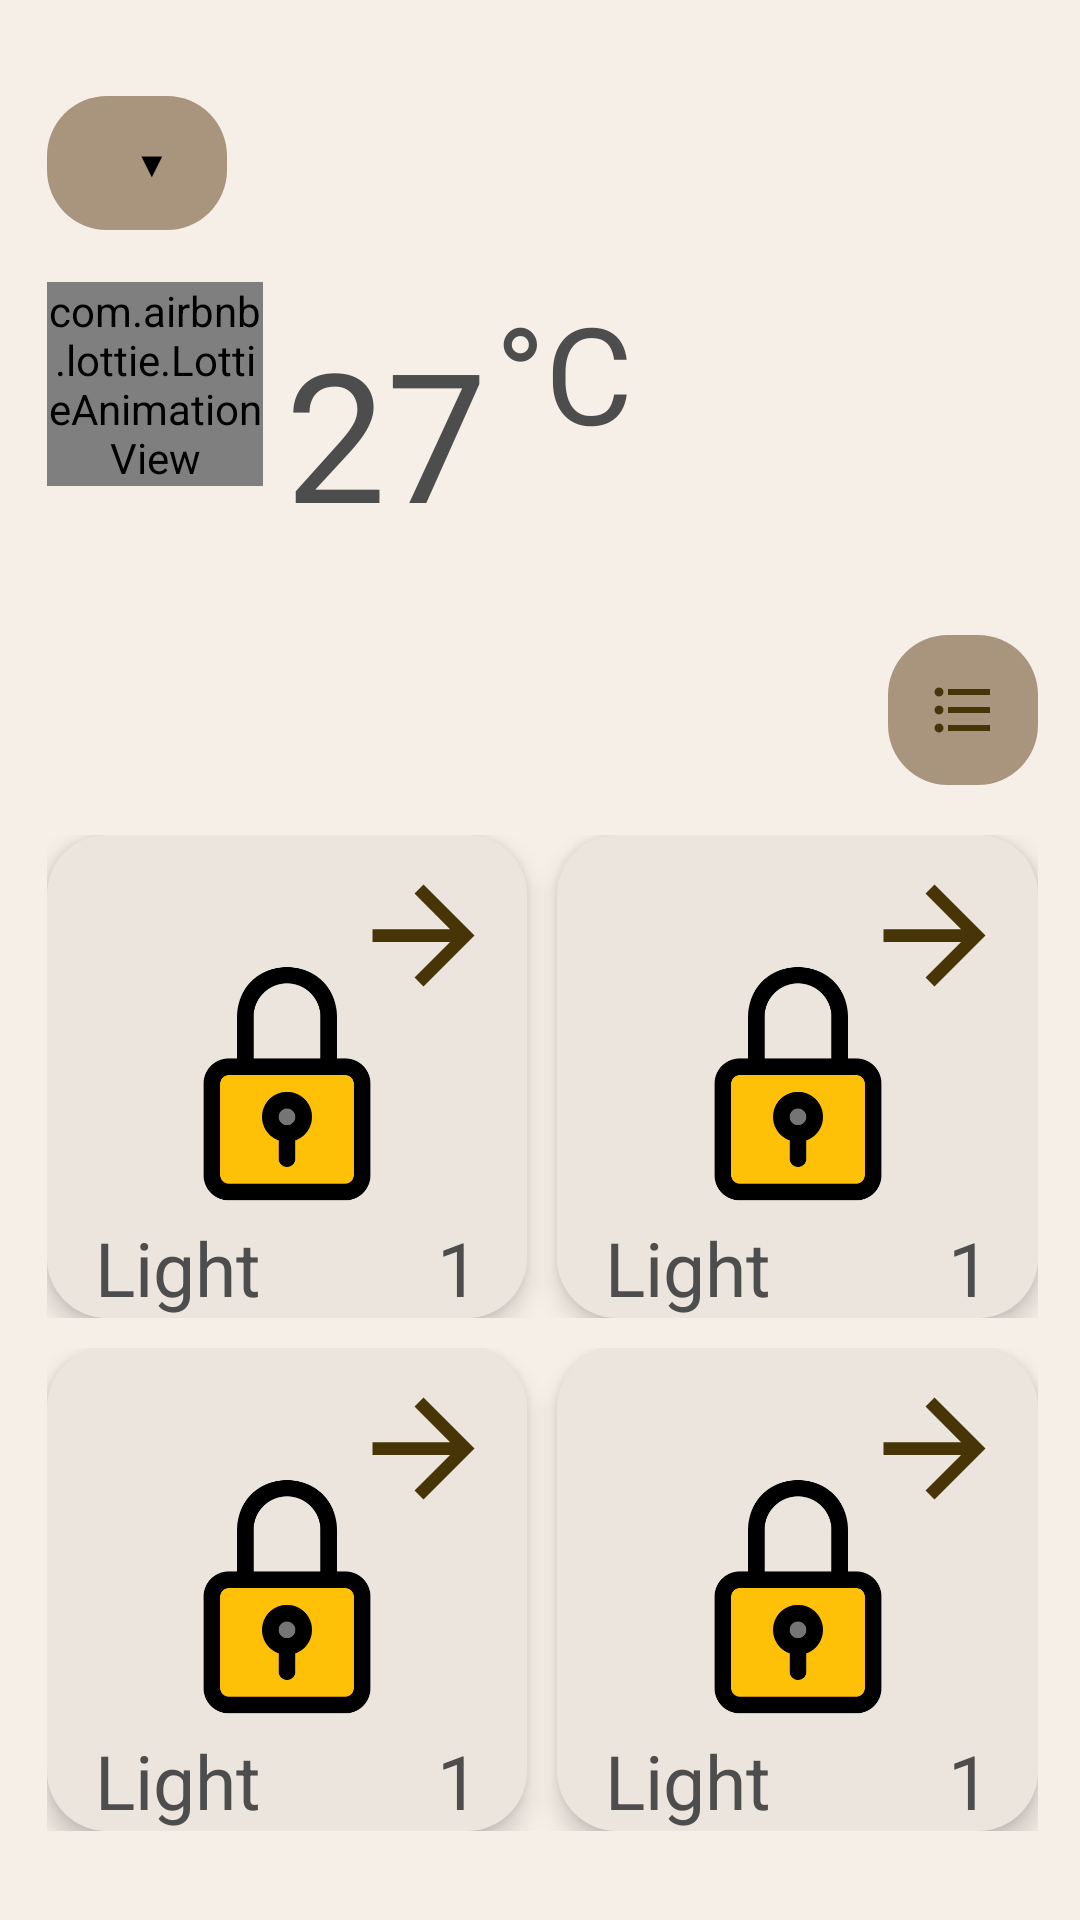

Named icons in this screenshot (1080px x 1920px) and their centers, (x,y):
lock: (287,1084), (798,1084), (287,1597), (798,1597)
next arrow: (423,935), (934,935), (423,1448), (934,1448)
